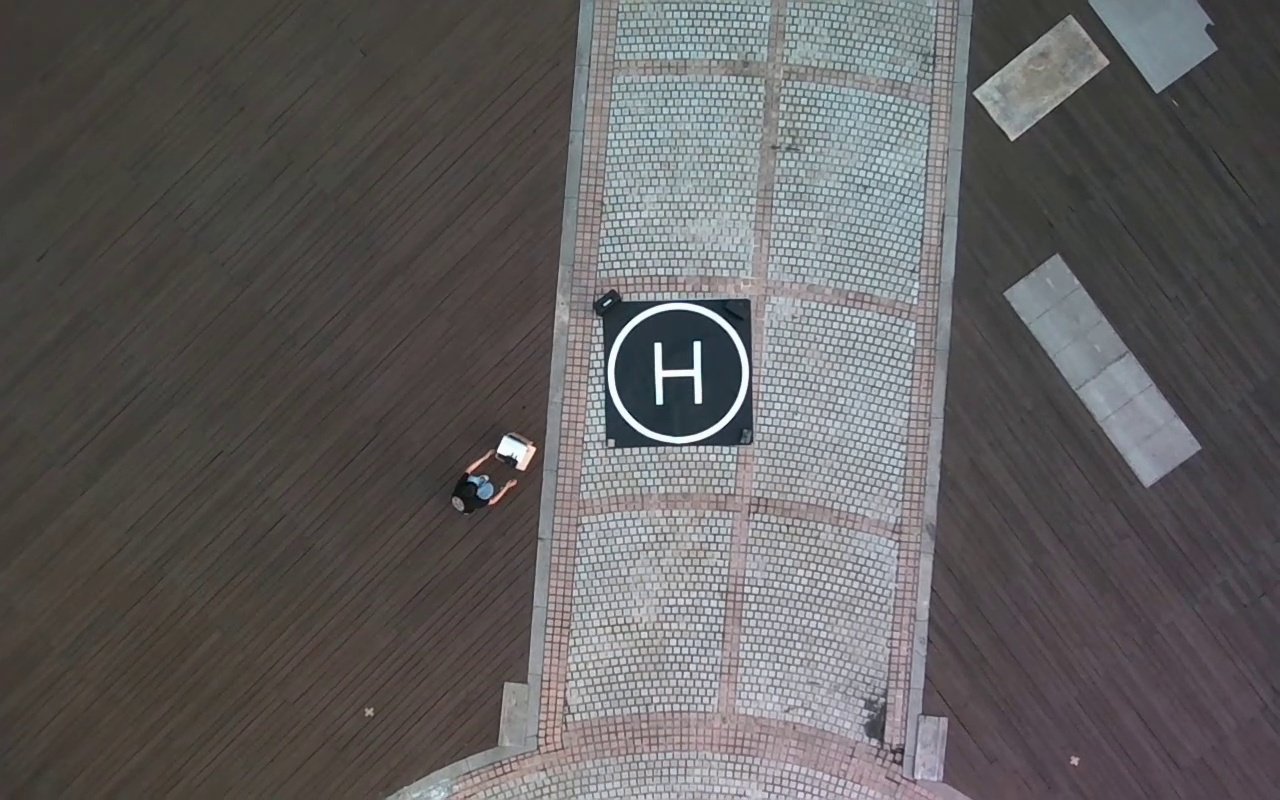H: (652, 340, 704, 406)
heliport: (608, 302, 749, 443)
